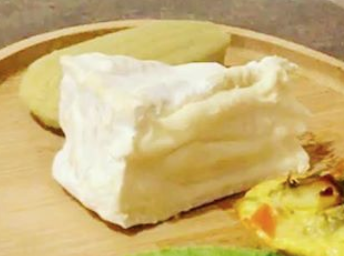camembert: (50, 51, 313, 230)
